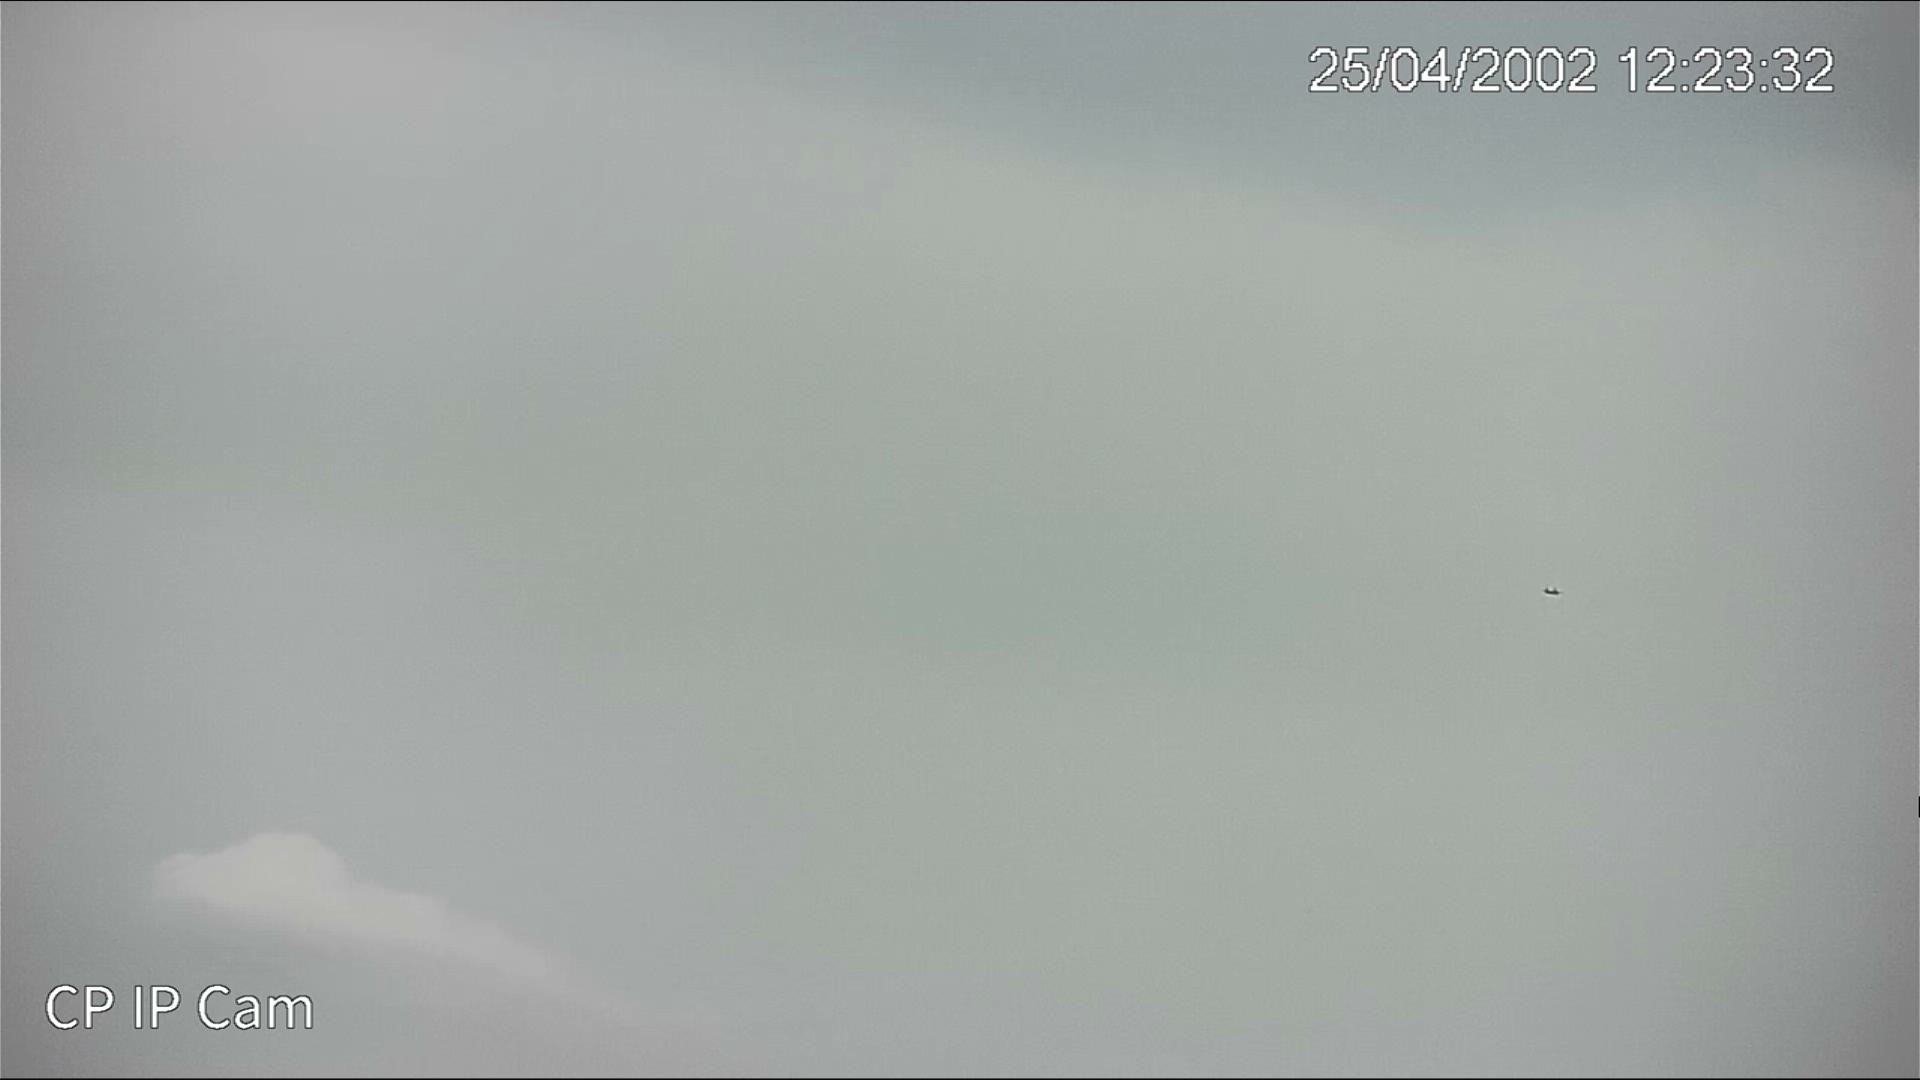SU_30: (1542, 588, 1563, 597)
